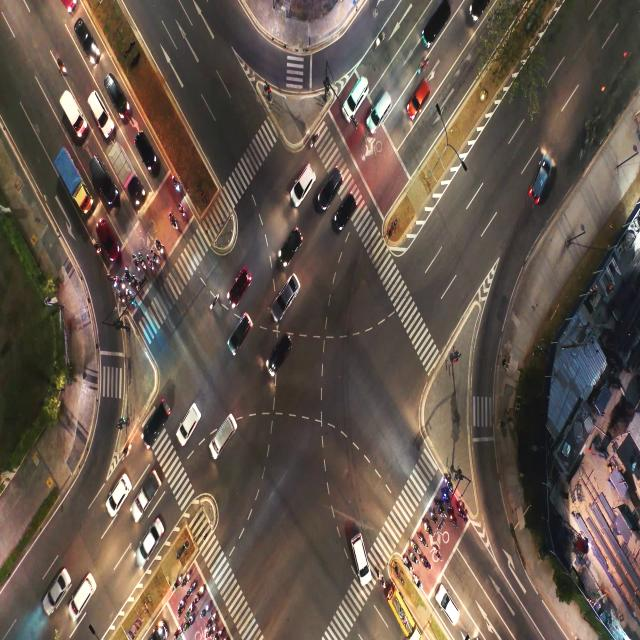bus: (396, 601, 409, 622)
car: (526, 158, 555, 208), (208, 415, 234, 457), (140, 402, 164, 444), (265, 336, 295, 366), (109, 474, 131, 514), (141, 519, 164, 557), (90, 152, 109, 195), (346, 76, 365, 117), (44, 572, 62, 614), (438, 587, 459, 622), (74, 576, 92, 614), (350, 540, 367, 578), (278, 230, 297, 264), (228, 318, 248, 350), (275, 282, 298, 309), (410, 84, 428, 118), (230, 267, 247, 303), (180, 404, 197, 439), (294, 166, 312, 198), (428, 7, 446, 38), (335, 196, 355, 222), (320, 170, 338, 198), (372, 91, 388, 121), (139, 132, 155, 162), (80, 21, 96, 48), (101, 220, 115, 250), (96, 103, 108, 129), (110, 79, 122, 103)
motorcycle: (417, 57, 430, 73), (374, 32, 384, 48), (310, 129, 318, 148), (210, 296, 220, 309), (169, 212, 177, 228), (458, 507, 467, 519), (183, 618, 192, 630), (124, 443, 131, 458), (92, 241, 99, 256), (450, 512, 457, 526), (174, 625, 181, 639), (379, 568, 385, 584), (414, 574, 420, 590), (117, 275, 123, 291), (174, 177, 180, 192), (446, 474, 453, 486), (180, 206, 187, 218), (173, 577, 179, 591), (186, 604, 193, 616), (201, 603, 209, 613), (184, 570, 190, 583), (443, 490, 449, 502), (420, 532, 426, 544), (158, 237, 162, 255), (110, 272, 115, 286), (178, 600, 183, 614), (215, 628, 222, 638), (432, 512, 438, 523), (411, 543, 419, 551), (426, 522, 432, 532), (152, 249, 157, 261), (148, 256, 153, 268), (125, 269, 130, 281), (198, 586, 203, 598), (207, 628, 213, 638), (134, 256, 138, 270), (120, 290, 124, 303), (438, 504, 443, 514), (133, 277, 138, 287), (188, 584, 193, 594), (412, 554, 418, 562), (141, 253, 144, 269), (128, 290, 132, 302), (208, 614, 214, 622), (423, 557, 428, 566), (434, 546, 438, 556), (408, 559, 411, 569)
truck: (57, 152, 85, 189), (138, 474, 154, 508), (61, 95, 76, 130), (115, 152, 129, 176)
